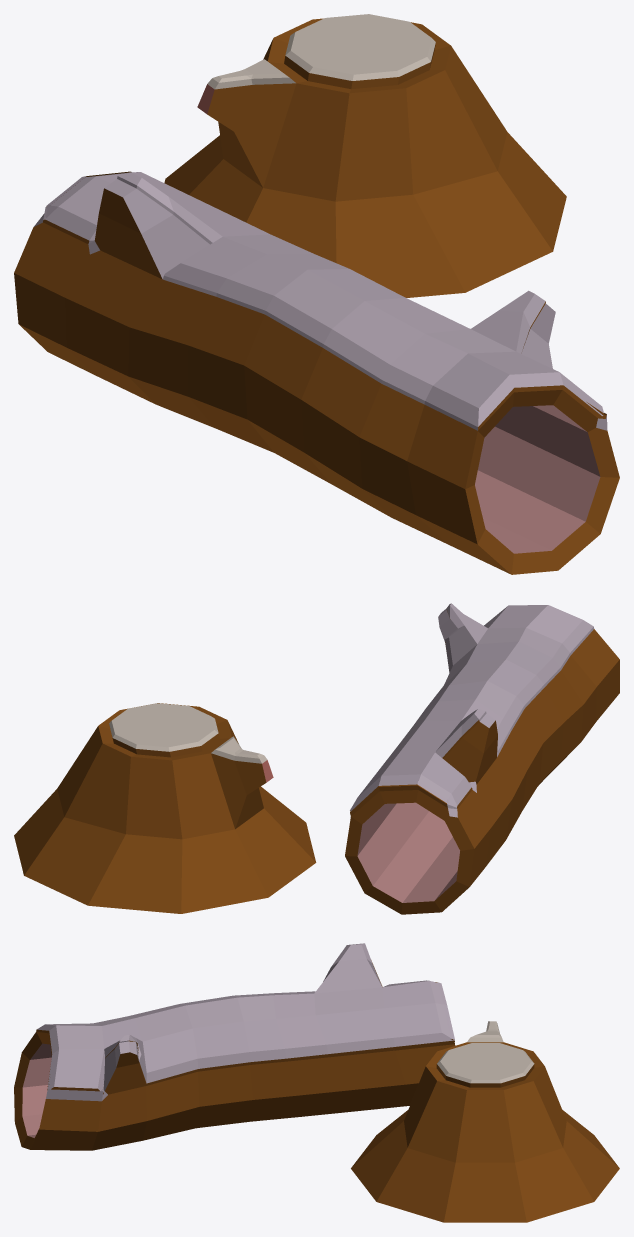
File: snowy trunk.fbx
3 views of the same model, one above another, from view 1: azimuth 30°, elevation 25°; view 2: azimuth 150°, elevation 25°; view 3: azimuth 270°, elevation 25° (orthographic). The views are drawn at different scales.
Visible parts, largest first — view 1: Cylinder.001, Cylinder; view 2: Cylinder.001, Cylinder; view 3: Cylinder.001, Cylinder.
Boxes of the visible parts, <box> form: Cylinder.001: <box>14,171,619,574</box>; Cylinder: <box>164,14,566,297</box>; Cylinder.001: <box>345,603,619,914</box>; Cylinder: <box>14,703,316,913</box>; Cylinder.001: <box>14,943,455,1150</box>; Cylinder: <box>351,1021,619,1222</box>.
Bounding box in the file's own units: 305 × 128 × 450.
